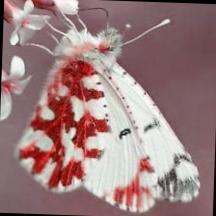butterfly: (14, 24, 200, 213)
